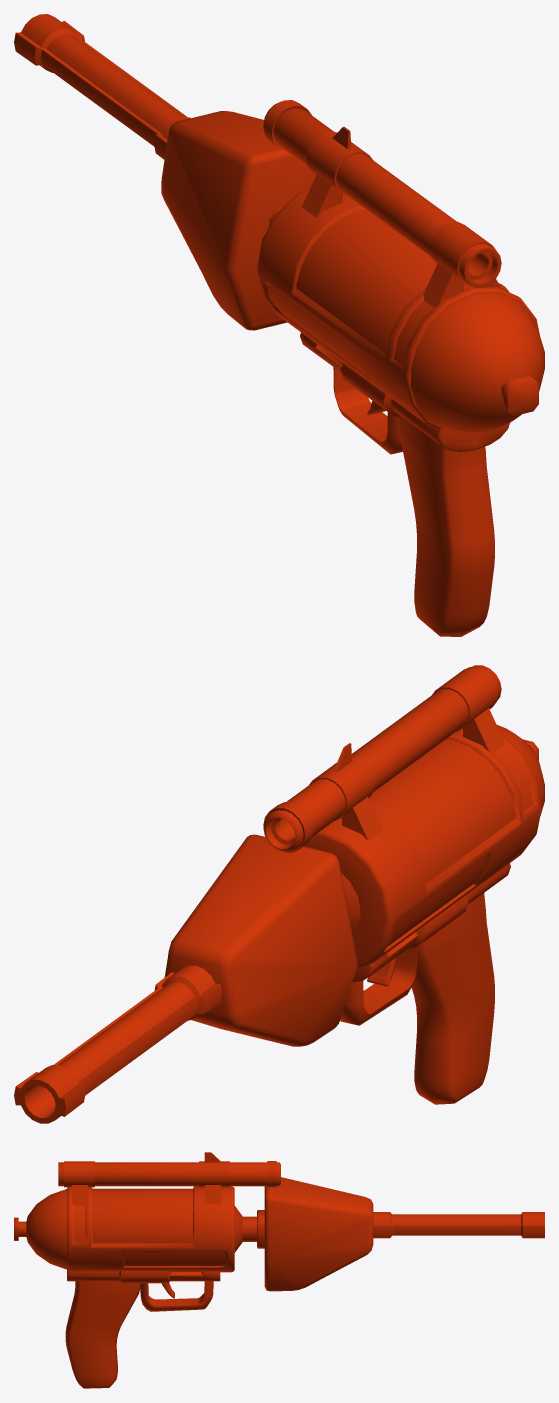
The model's file is Pistolet.fbx.
3 renders of one model, top to bottom at view 1: azimuth 30°, elevation 25°; view 2: azimuth 150°, elevation 25°; view 3: azimuth 270°, elevation 25°, orthographic. The views are drawn at different scales.
Parts seen in each view (by area): view 1: Corp.Low, Réservoir.Low, Viseur.Low, MancheGachette.Low; view 2: Corp.Low, Viseur.Low, MancheGachette.Low, Réservoir.Low; view 3: Corp.Low, Viseur.Low, Réservoir.Low, MancheGachette.Low.
Boxes of the visible parts, x1,y1,x2,y2 form: Corp.Low: [161, 111, 539, 429]; Réservoir.Low: [296, 210, 544, 432]; Viseur.Low: [14, 14, 501, 307]; MancheGachette.Low: [300, 332, 509, 636]; Corp.Low: [164, 730, 541, 1046]; Viseur.Low: [14, 665, 503, 1123]; MancheGachette.Low: [340, 863, 510, 1104]; Réservoir.Low: [341, 725, 544, 932]; Corp.Low: [67, 1177, 373, 1291]; Viseur.Low: [58, 1152, 544, 1248]; Réservoir.Low: [14, 1188, 242, 1269]; MancheGachette.Low: [65, 1270, 220, 1388].
Bounding box in the file's own units: 11.98 × 35.64 × 73.63.
